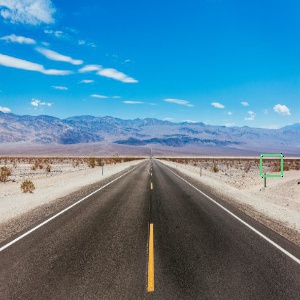square: (260, 153, 284, 177)
